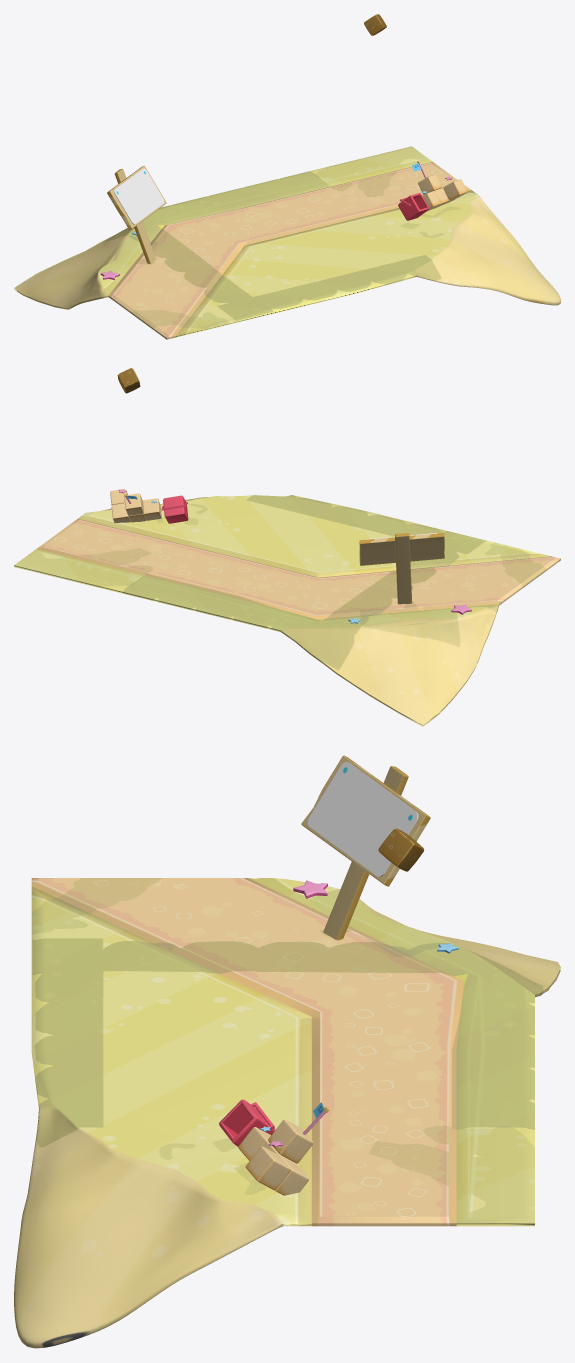
Rendered from S2_OutF_Field_001.fbx.
3 views of the same model, one above another, from view 1: azimuth 30°, elevation 25°; view 2: azimuth 150°, elevation 25°; view 3: azimuth 270°, elevation 25° (orthographic). The views are drawn at different scales.
Parts seen in each view (by area): view 1: S2_OutF_Field; view 2: S2_OutF_Field; view 3: S2_OutF_Field.
Part boxes in pixels (x1=…): S2_OutF_Field: x1=14, y1=14, x2=560, y2=339; S2_OutF_Field: x1=14, y1=368, x2=560, y2=726; S2_OutF_Field: x1=14, y1=755, x2=560, y2=1348.
Size of the model in its own units: 14.62 by 8.05 by 9.05.
